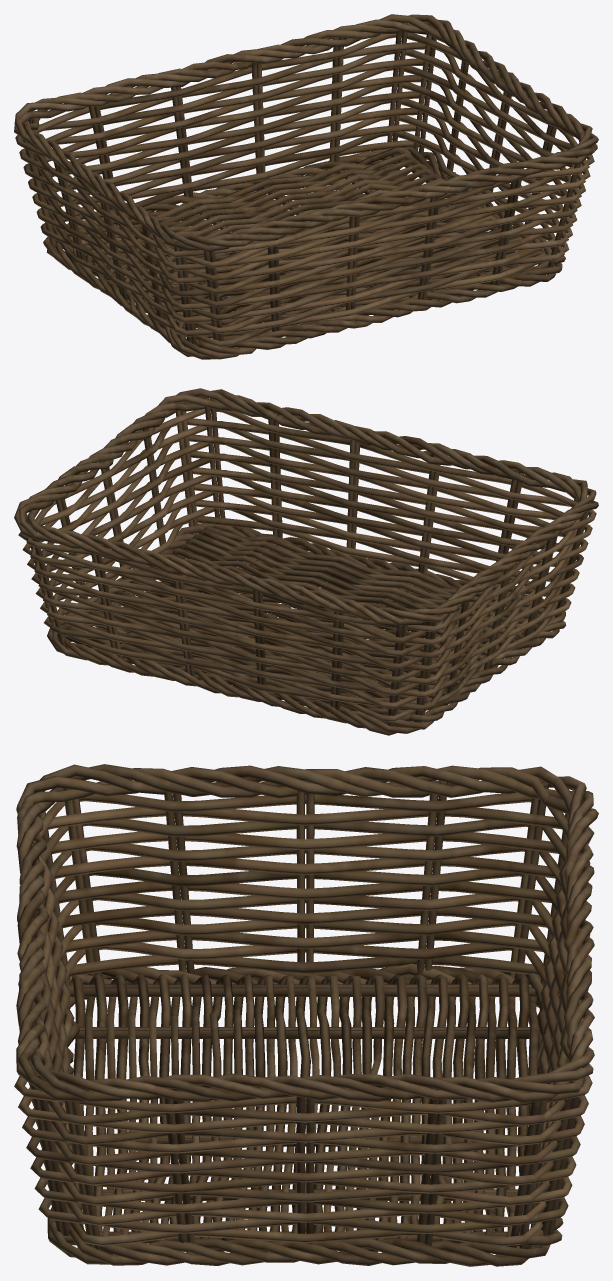
The model's file is wicker_basket_01.glb.
3 views of the same model, one above another, from view 1: azimuth 30°, elevation 25°; view 2: azimuth 150°, elevation 25°; view 3: azimuth 270°, elevation 25° (orthographic). The views are drawn at different scales.
Parts seen in each view (by area): view 1: wicker_basket_01; view 2: wicker_basket_01; view 3: wicker_basket_01.
Part boxes in pixels (<box>): wicker_basket_01: <box>14,14,598,359</box>; wicker_basket_01: <box>14,388,598,735</box>; wicker_basket_01: <box>14,764,598,1266</box>.
Size of the model in its own units: 0.3832 by 0.1174 by 0.295.
1 material, 1 textured.
